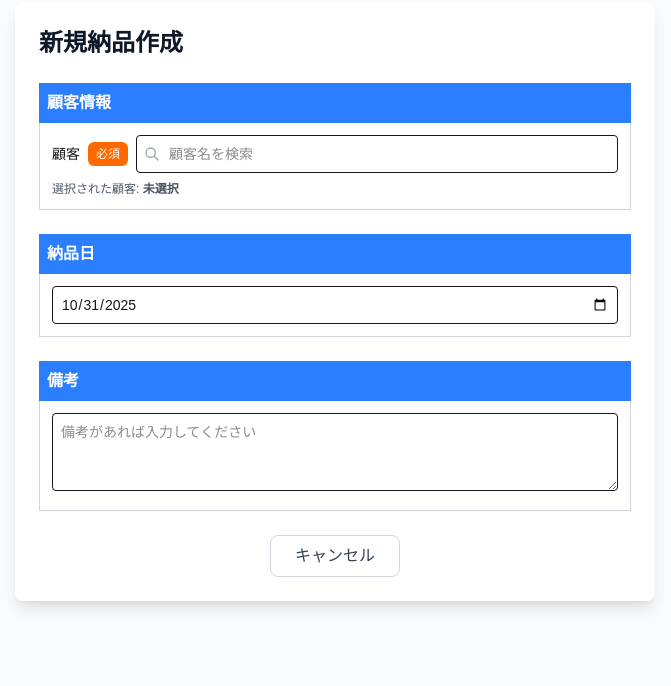
Test case: DeliveryAddPage › handles customer selection
Click the field with placeholder "顧客名を検索" at [377, 154], box [136,135,618,173]
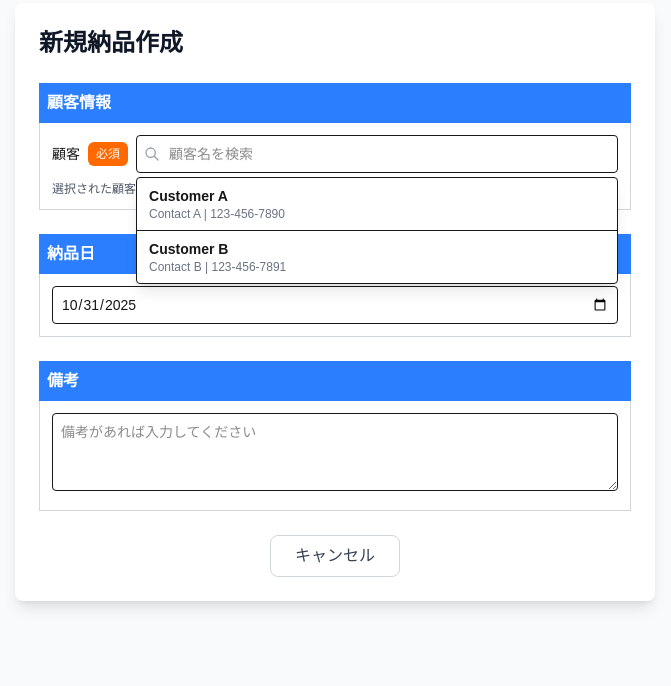
Result: the text "Customer A" is shown
Click the text "Customer A" at [188, 196], box [149,188,228,204]
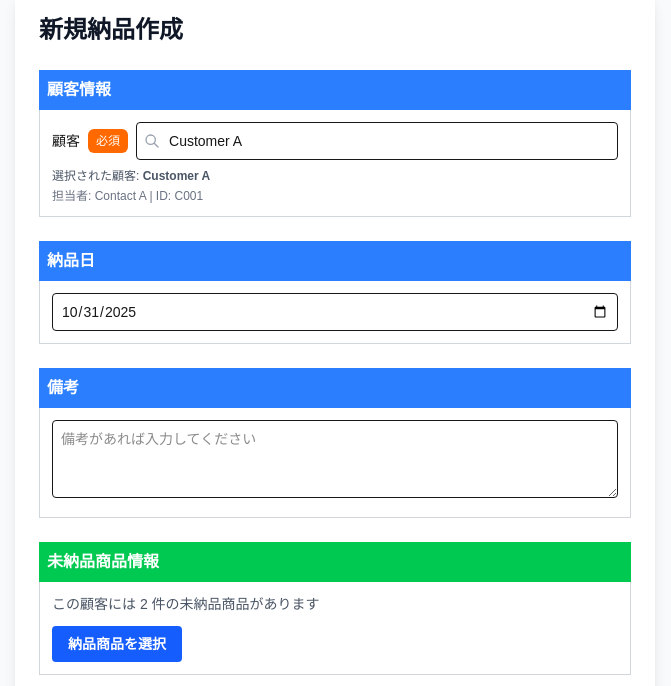
Result: the text "未納品商品情報" is shown at [39,542,631,582]
